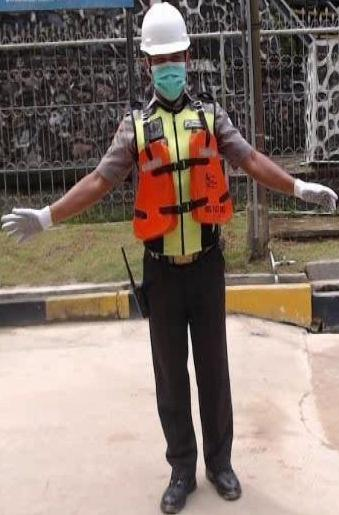boots: (161, 471, 197, 513), (205, 464, 242, 500)
gloves: (0, 206, 52, 244), (293, 178, 337, 214)
hard-hat: (138, 0, 190, 56)
ppe-suit: (0, 0, 339, 515)
vest: (92, 90, 232, 250)
